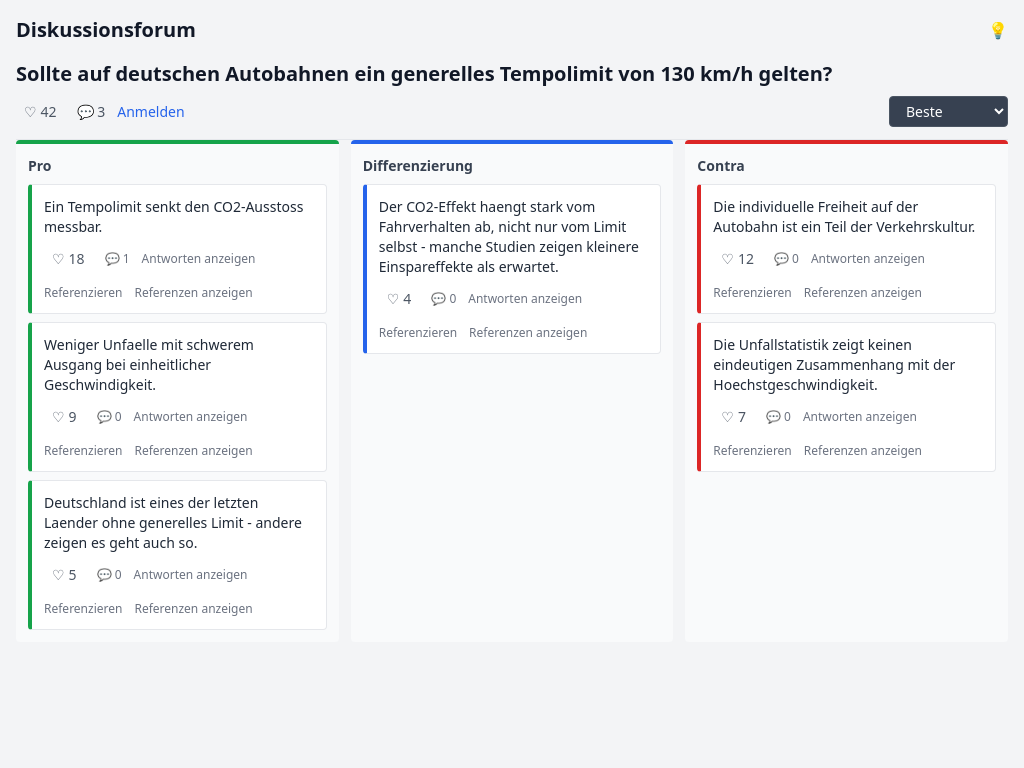
Test case: ForumThread › "Idee oder Bug melden" icon next to the Diskussionsforum heading › requires login before opening it for an anonymous caller
Check: the heading "Sollte auf deutschen Autobahnen ein generelles Tempolimit von 130 km/h gelten?" is shown, box [16, 60, 832, 87]
What coordinates should you click on to do the following:
click the button named "Idee oder Bug melden"
I would click on:
 (998, 30)
Its box is [988, 18, 1008, 42].
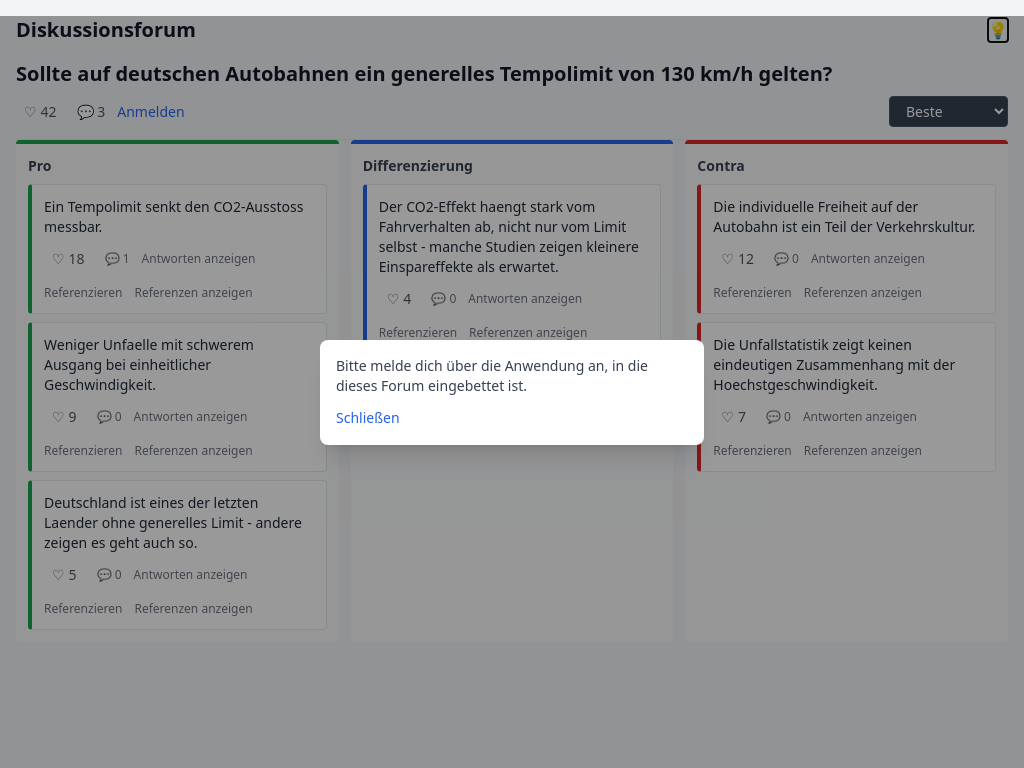
Check: the number of dialogs is 1
